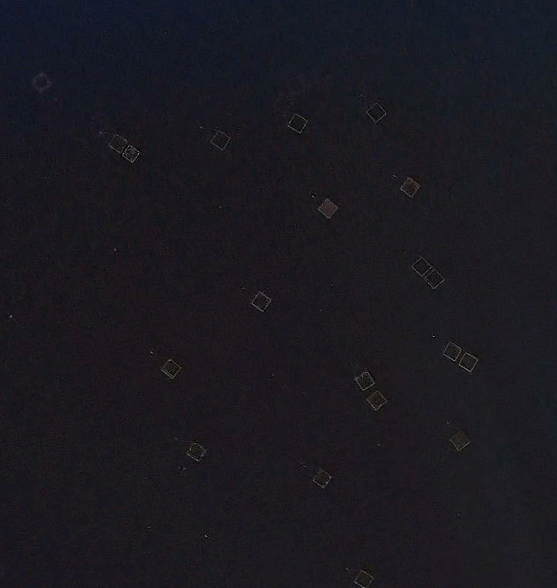square: (153, 343, 189, 384), (243, 282, 278, 316), (457, 347, 492, 381), (421, 263, 459, 291), (363, 386, 398, 416), (362, 94, 394, 125), (396, 171, 427, 203), (181, 436, 212, 468), (447, 423, 477, 456), (102, 123, 132, 156), (350, 361, 379, 395), (436, 333, 466, 365), (309, 461, 337, 491), (404, 249, 434, 277), (118, 142, 149, 166), (314, 191, 340, 219), (284, 107, 310, 133), (207, 123, 232, 150), (29, 69, 55, 94), (350, 563, 375, 588)
